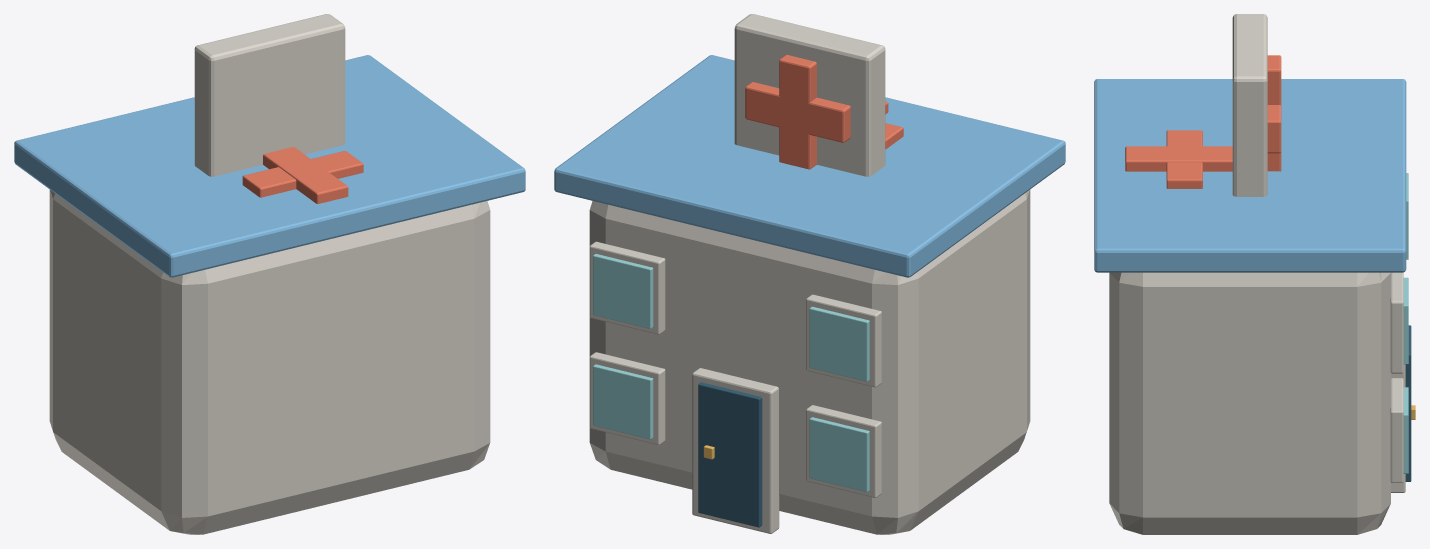
The model's file is hospital.glb.
3 views of the same model, side by side, from view 1: azimuth 30°, elevation 25°; view 2: azimuth 150°, elevation 25°; view 3: azimuth 270°, elevation 25° (orthographic).
Parts seen in each view (by area): view 1: hospital; view 2: hospital; view 3: hospital.
Part boxes in pixels (x1=…): hospital: x1=14, y1=14, x2=525, y2=534; hospital: x1=554, y1=14, x2=1065, y2=534; hospital: x1=1094, y1=14, x2=1415, y2=534.
Bounding box in the file's own units: 4.05 × 4.71 × 3.19.
